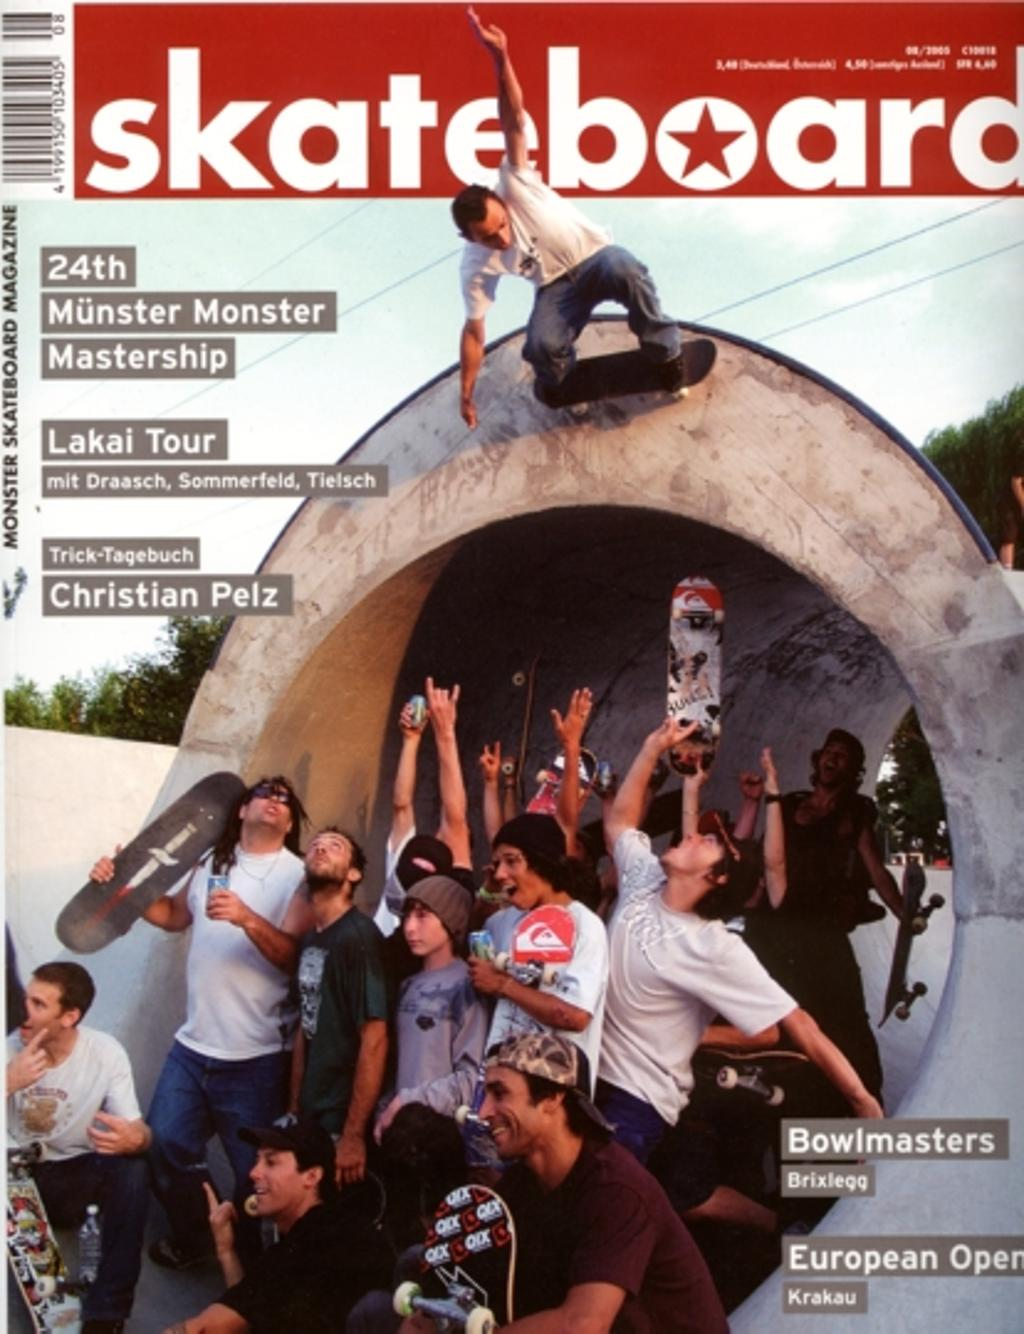face: (478, 1073, 538, 1161), (249, 1150, 300, 1216), (659, 833, 728, 881), (19, 980, 63, 1044), (495, 851, 541, 908), (403, 904, 446, 954), (302, 830, 348, 876), (468, 202, 511, 249), (248, 782, 292, 824), (818, 741, 854, 785)
